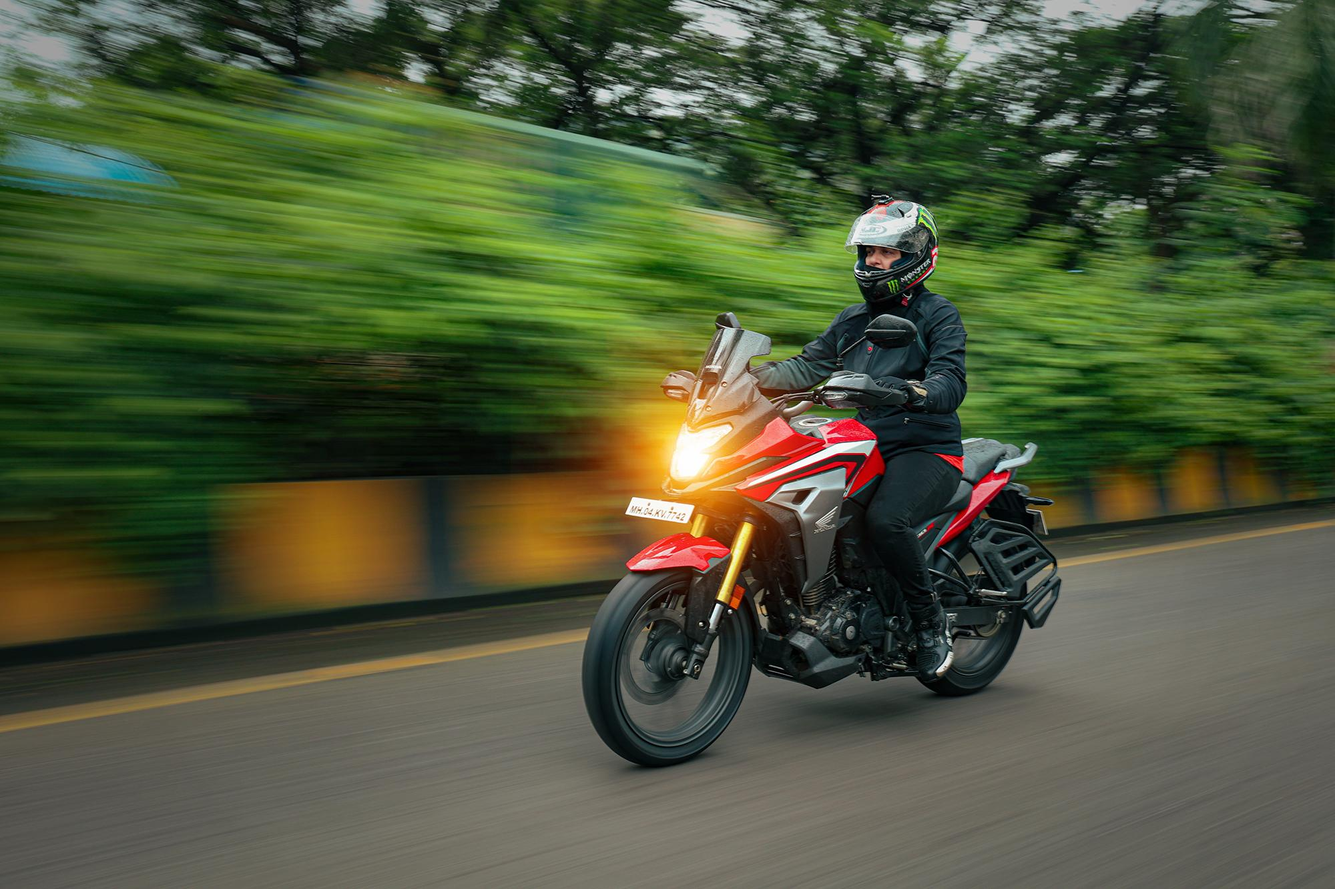helmet: (844, 193, 940, 304)
